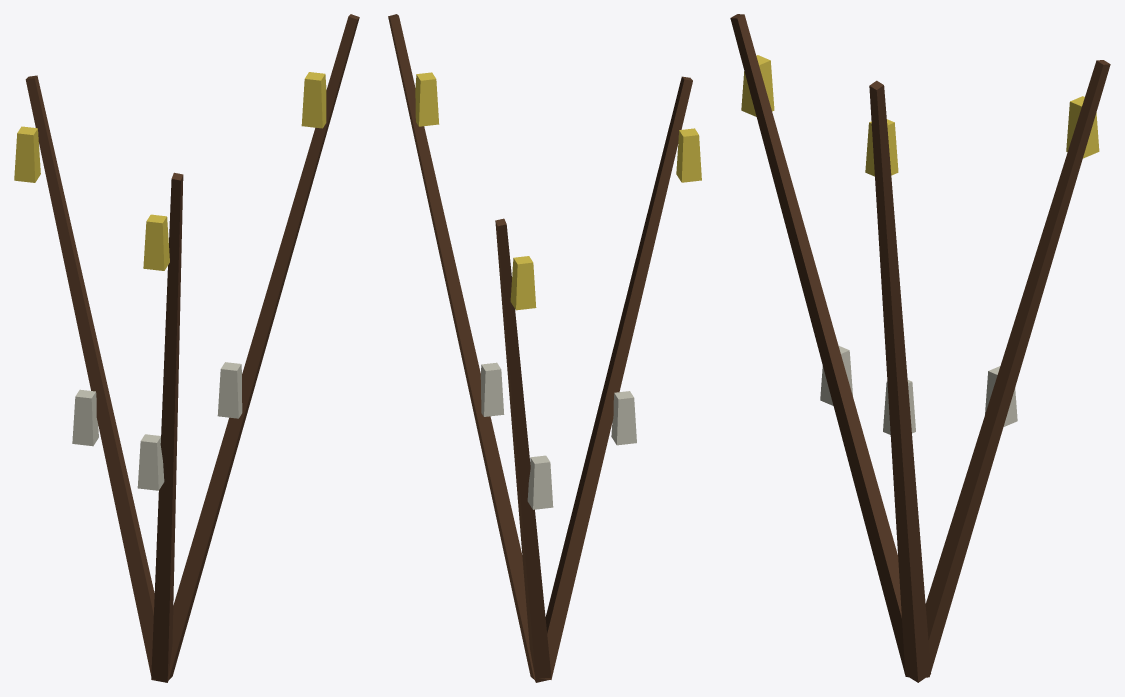
Rendered from Prop_Bee_Flora_WillowCatkin_LOD1.glb.
3 renders of one model, left to right at view 1: azimuth 30°, elevation 25°; view 2: azimuth 150°, elevation 25°; view 3: azimuth 270°, elevation 25°, orthographic. The views are drawn at different scales.
Visible parts, largest first — view 1: Prop_Bee_Flora_WillowCatkin; view 2: Prop_Bee_Flora_WillowCatkin; view 3: Prop_Bee_Flora_WillowCatkin.
Boxes of the visible parts, box(x1,y1,x2,y2) form: Prop_Bee_Flora_WillowCatkin: box(14, 14, 359, 682); Prop_Bee_Flora_WillowCatkin: box(388, 14, 701, 682); Prop_Bee_Flora_WillowCatkin: box(730, 14, 1110, 682).
Size of the model in its own units: 0.183 by 0.4093 by 0.2061.
